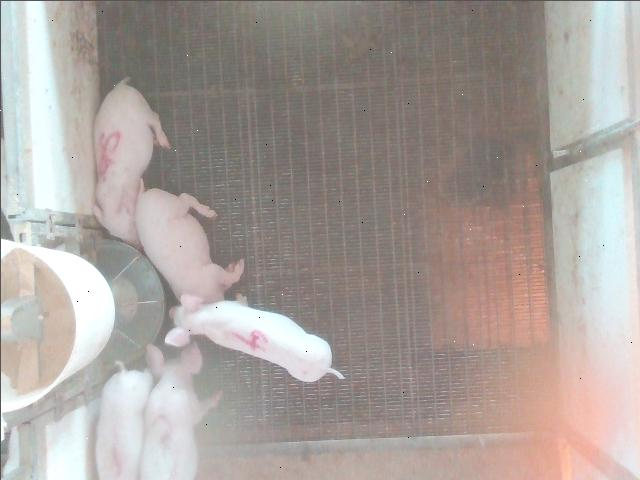pig-1: (95, 362, 152, 479)
pig-3: (139, 342, 204, 479)
pig-4: (165, 292, 342, 381)
pig-5: (91, 78, 169, 246)
